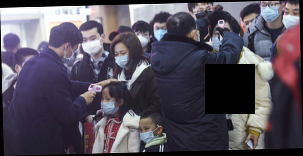with_mask: (209, 27, 232, 52), (259, 1, 283, 23), (80, 33, 103, 55), (281, 5, 300, 31), (113, 47, 134, 70), (99, 93, 119, 115), (137, 123, 157, 144), (61, 48, 80, 65), (133, 29, 149, 49), (153, 24, 168, 42)
